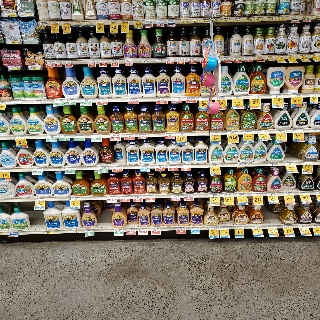All PRICE TAGS: (19, 11, 33, 17), (3, 12, 16, 17), (6, 39, 19, 44), (28, 65, 40, 70), (8, 66, 21, 70), (249, 95, 261, 99), (257, 130, 269, 134), (70, 196, 81, 200), (124, 133, 135, 137), (59, 134, 70, 138), (96, 98, 107, 102), (11, 100, 22, 104), (293, 129, 304, 133), (156, 97, 167, 101), (285, 162, 296, 166), (237, 163, 248, 167), (283, 192, 294, 196), (168, 164, 178, 168), (176, 132, 186, 136), (138, 133, 148, 137), (75, 134, 85, 138), (269, 162, 279, 166), (267, 192, 277, 196), (223, 193, 233, 197), (234, 226, 244, 230), (219, 226, 229, 230), (208, 226, 218, 230), (40, 21, 48, 26), (85, 229, 94, 233), (121, 195, 130, 199), (108, 195, 117, 199), (198, 97, 210, 100), (185, 97, 197, 100), (54, 99, 63, 103), (200, 18, 209, 22), (181, 19, 190, 23), (271, 95, 283, 98), (226, 131, 238, 134), (109, 21, 118, 25), (171, 97, 182, 100), (128, 98, 139, 101), (81, 99, 92, 102), (65, 99, 76, 102), (16, 136, 27, 139), (47, 135, 58, 138), (32, 168, 43, 171), (232, 96, 243, 99), (291, 94, 302, 97), (275, 130, 286, 133), (243, 131, 254, 134), (302, 162, 313, 165), (299, 192, 310, 195), (209, 164, 220, 167), (139, 227, 147, 231), (65, 60, 73, 64), (135, 20, 143, 24), (121, 20, 129, 24), (166, 58, 174, 62), (218, 96, 226, 100), (312, 54, 320, 58), (276, 55, 284, 59), (256, 56, 264, 60), (266, 17, 274, 21), (255, 17, 263, 21), (223, 18, 231, 22), (214, 18, 222, 22), (145, 20, 153, 24), (85, 21, 93, 25), (127, 228, 137, 231), (170, 194, 180, 197), (145, 195, 155, 198), (133, 195, 143, 198), (181, 164, 191, 167), (140, 165, 150, 168), (98, 166, 108, 169), (65, 167, 75, 170), (164, 133, 174, 136), (110, 134, 120, 137), (92, 134, 102, 137), (0, 169, 10, 172), (35, 198, 45, 201), (43, 231, 53, 234), (310, 129, 320, 132), (252, 193, 262, 196), (237, 193, 247, 196), (298, 225, 308, 228), (283, 225, 293, 228), (252, 226, 262, 229), (211, 132, 221, 135), (89, 60, 96, 64), (288, 55, 295, 59), (97, 21, 104, 25), (234, 18, 241, 22), (191, 19, 198, 23), (191, 227, 200, 230), (177, 227, 186, 230), (115, 228, 124, 231), (184, 194, 193, 197), (113, 166, 122, 169), (176, 58, 185, 61), (167, 20, 176, 23), (155, 20, 164, 23), (210, 194, 219, 197), (299, 55, 308, 58), (50, 21, 59, 24), (62, 21, 71, 24), (152, 227, 160, 230), (157, 165, 165, 168), (188, 58, 196, 61), (125, 59, 133, 62), (54, 61, 62, 64), (47, 61, 53, 65), (156, 59, 164, 62), (111, 60, 119, 63), (34, 100, 42, 103), (312, 225, 320, 228), (266, 56, 274, 59), (244, 57, 252, 60), (233, 57, 241, 60), (302, 16, 310, 19), (290, 16, 298, 19), (277, 17, 285, 20), (74, 21, 82, 24), (142, 59, 149, 62), (100, 60, 107, 63), (310, 94, 317, 97), (223, 57, 230, 60), (245, 18, 252, 21), (267, 226, 277, 228), (0, 101, 6, 104), (316, 191, 320, 195), (315, 15, 319, 18)
